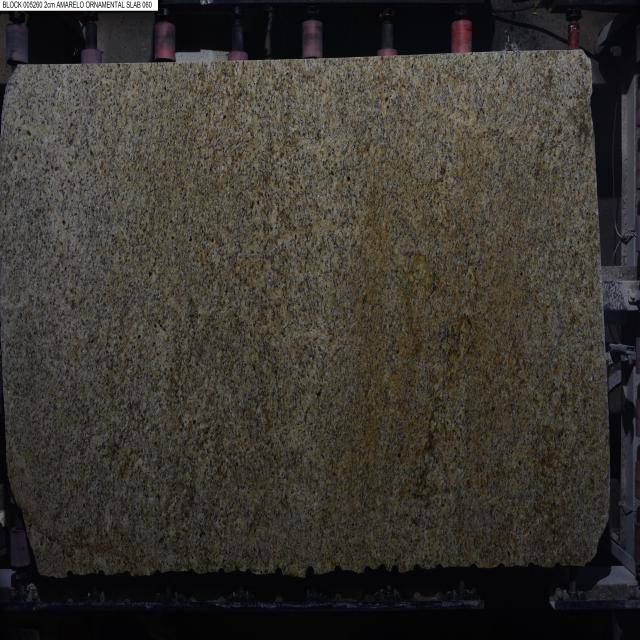chapa: (0, 52, 609, 578)
veio: (304, 566, 316, 580), (389, 563, 401, 575), (274, 564, 284, 578)
